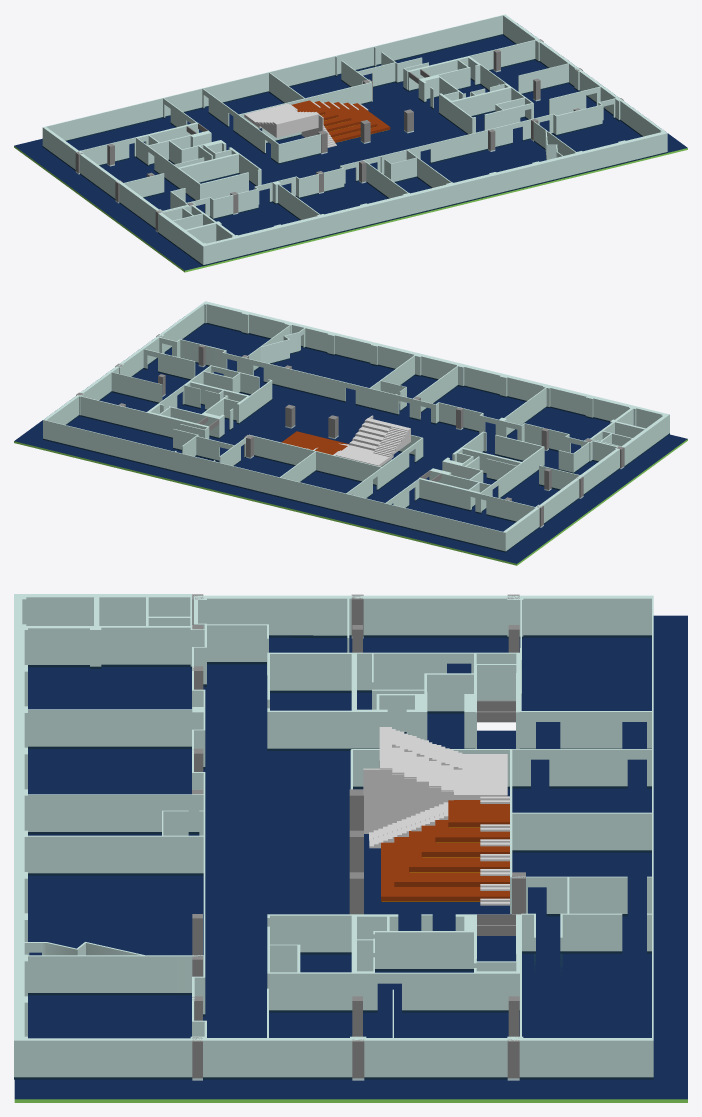
The model's file is B1F_Floor.fbx.
3 renders of one model, top to bottom at view 1: azimuth 30°, elevation 25°; view 2: azimuth 150°, elevation 25°; view 3: azimuth 270°, elevation 25°, orthographic. The views are drawn at different scales.
Parts seen in each view (by area): view 1: Room_03, B1_Floor, Room_02, Room_01, Big_Stair, B1F_Pillar_01, Class_Wall, StraightStair, B1F_Pillar_02, Stair_Floor; view 2: Room_03, B1_Floor, Room_02, Room_01, B1F_Pillar_01, StraightStair, Big_Stair, B1F_Pillar_02, Class_Wall, Stair_Floor, Samal_Stair; view 3: B1_Floor, Room_03, Room_02, Room_01, Big_Stair, B1F_Pillar_01, StraightStair, Stair_Wall, Samal_Stair, B1F_Pillar_02, Stair_Floor, Wall (+1 smaller).
Part boxes in pixels (left/top/right/bottom): Room_03: left=42, top=14, right=602, bottom=200; B1_Floor: left=14, top=23, right=687, bottom=272; Room_02: left=158, top=86, right=667, bottom=266; Room_01: left=76, top=151, right=194, bottom=229; Big_Stair: left=291, top=100, right=390, bottom=142; B1F_Pillar_01: left=75, top=39, right=623, bottom=232; Class_Wall: left=262, top=57, right=428, bottom=163; StraightStair: left=258, top=111, right=336, bottom=147; B1F_Pillar_02: left=317, top=79, right=413, bottom=154; Stair_Floor: left=244, top=104, right=297, bottom=128; Room_03: left=43, top=348, right=544, bottom=552; B1_Floor: left=14, top=324, right=687, bottom=565; Room_02: left=141, top=301, right=669, bottom=467; Room_01: left=536, top=440, right=619, bottom=527; B1F_Pillar_01: left=76, top=334, right=624, bottom=527; StraightStair: left=339, top=418, right=410, bottom=455; Big_Stair: left=281, top=431, right=348, bottom=454; B1F_Pillar_02: left=244, top=404, right=338, bottom=458; Class_Wall: left=173, top=424, right=421, bottom=466; Stair_Floor: left=335, top=445, right=393, bottom=466; Samal_Stair: left=307, top=427, right=407, bottom=456; B1_Floor: left=14, top=615, right=687, bottom=1102; Room_03: left=267, top=595, right=653, bottom=1079; Room_02: left=14, top=594, right=266, bottom=1079; Room_01: left=193, top=595, right=520, bottom=677; Big_Stair: left=381, top=800, right=509, bottom=901; B1F_Pillar_01: left=192, top=594, right=519, bottom=1080; StraightStair: left=369, top=727, right=453, bottom=848; Stair_Wall: left=363, top=768, right=453, bottom=833; Samal_Stair: left=392, top=729, right=509, bottom=905; B1F_Pillar_02: left=349, top=789, right=525, bottom=914; Stair_Floor: left=453, top=754, right=507, bottom=799; Wall: left=477, top=700, right=515, bottom=722.
Bounding box in the file's own units: 85 × 5.69 × 50.05.
